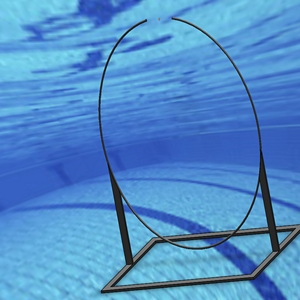circle: (97, 12, 266, 290)
